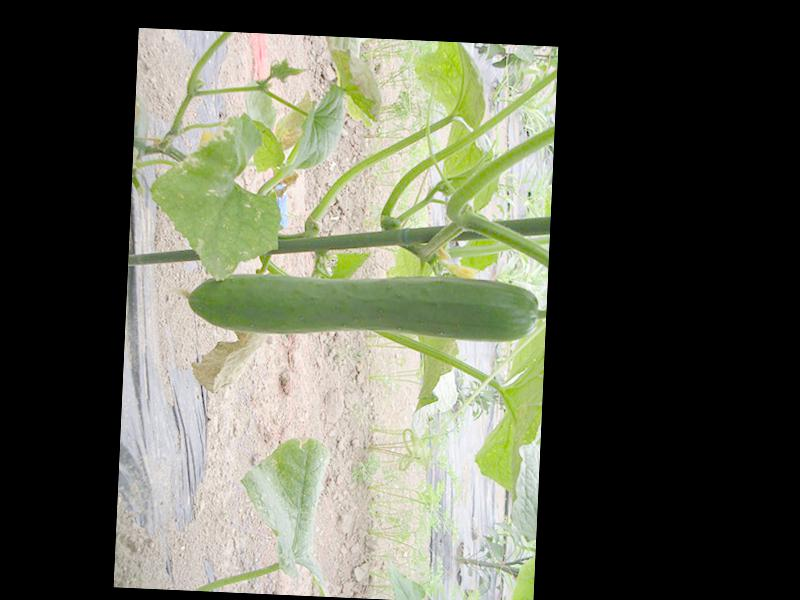Cucumber: (177, 264, 539, 345)
